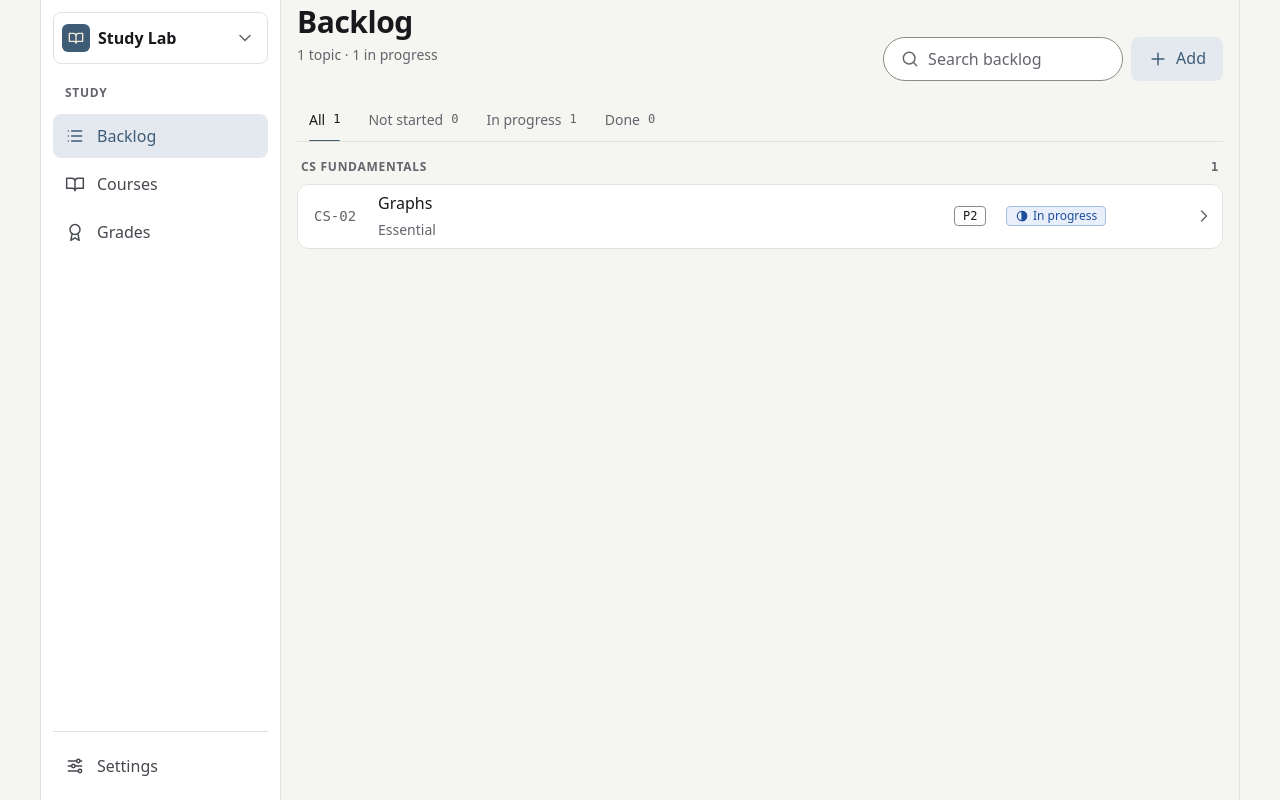
Test: Topic sheet › saves only what changed, with an Idempotency-Key, then reads the backlog again
The image size is (1280, 800).
Click the button "CS-02 Graphs Essential". click: (335, 216)
box: [298,185,1222,248]
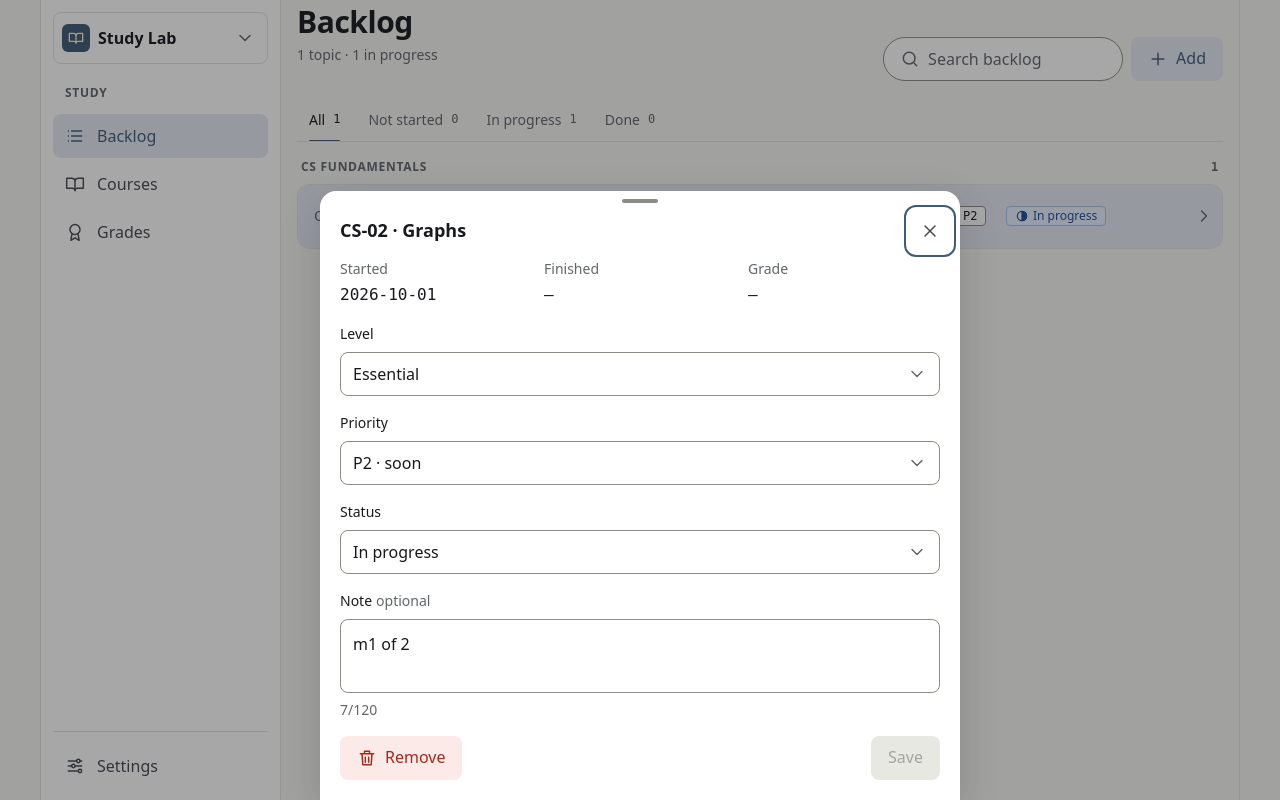
Select "P1 · next up" in the dropdown labelled "Priority". click: (626, 463)
box: [353,442,899,484]
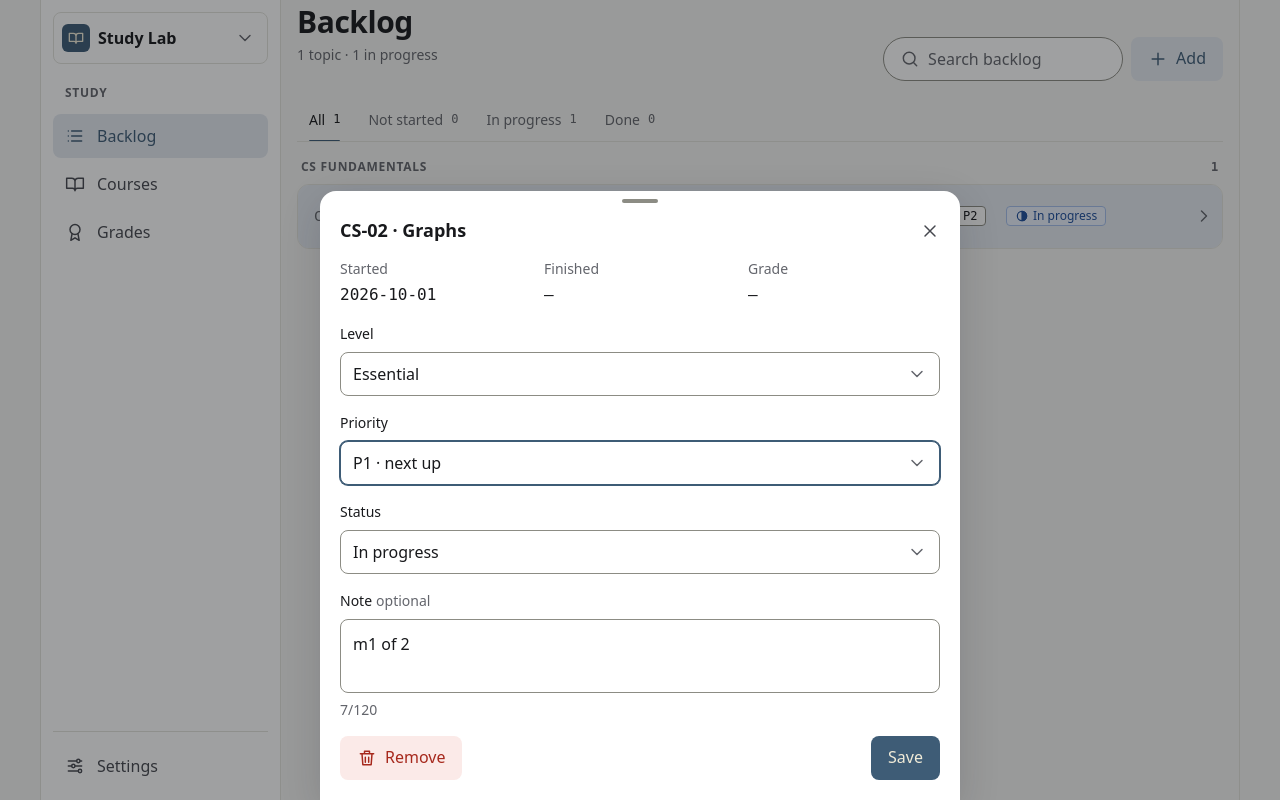
Click the button "Save". click: (906, 758)
box: [871,736,940,780]
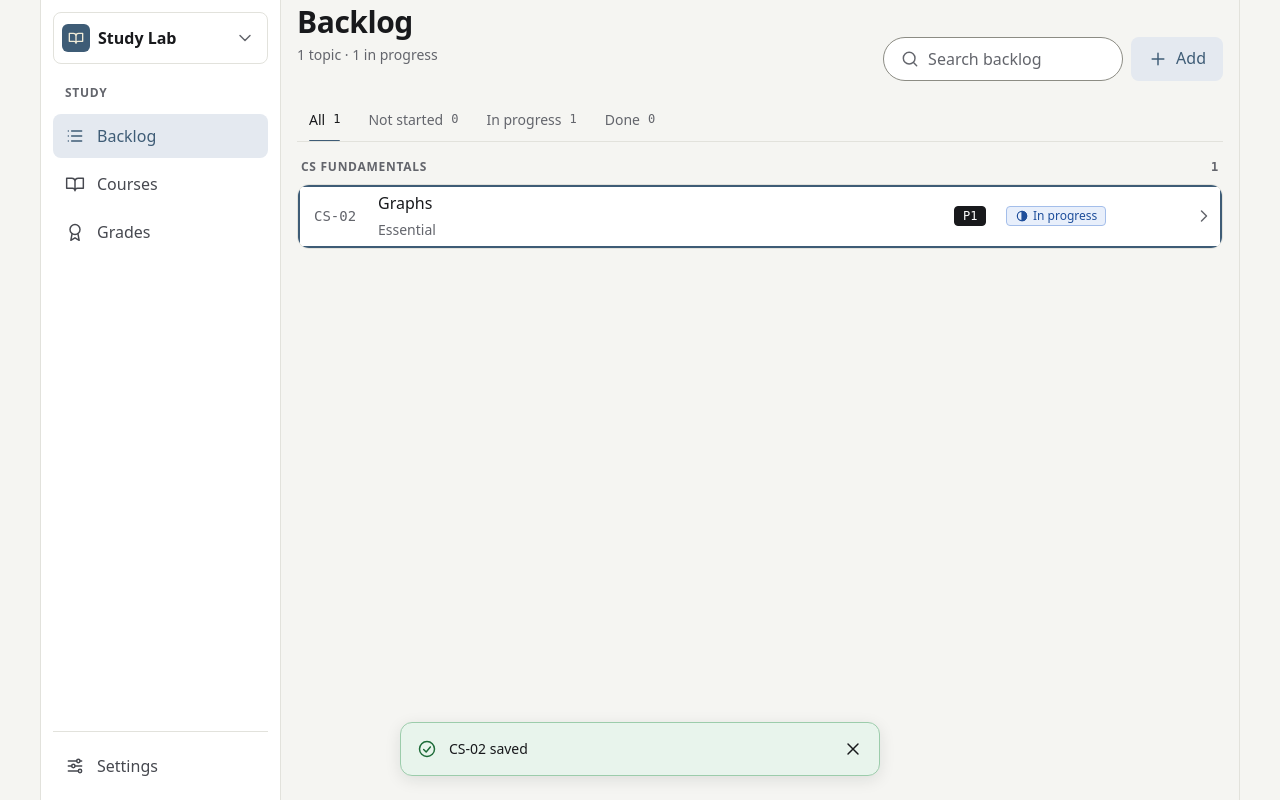
Now the text "CS-02 saved" is shown, box [449,738,528,758]
